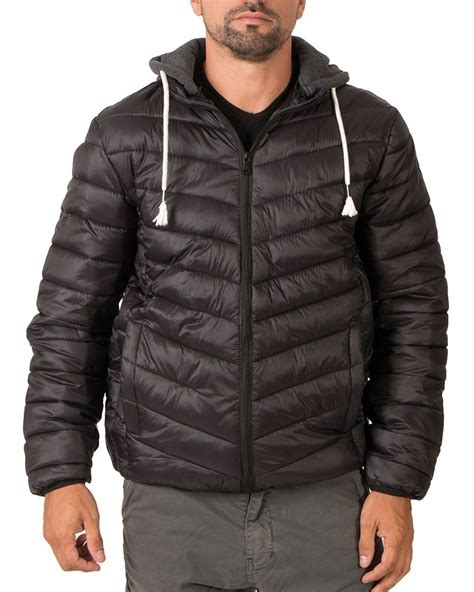nylon: (22, 76, 450, 495)
